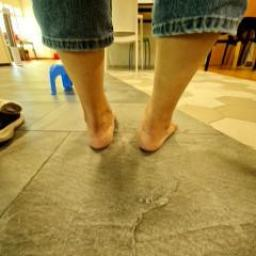Back View -Both Feet-: (65, 80, 193, 164)
